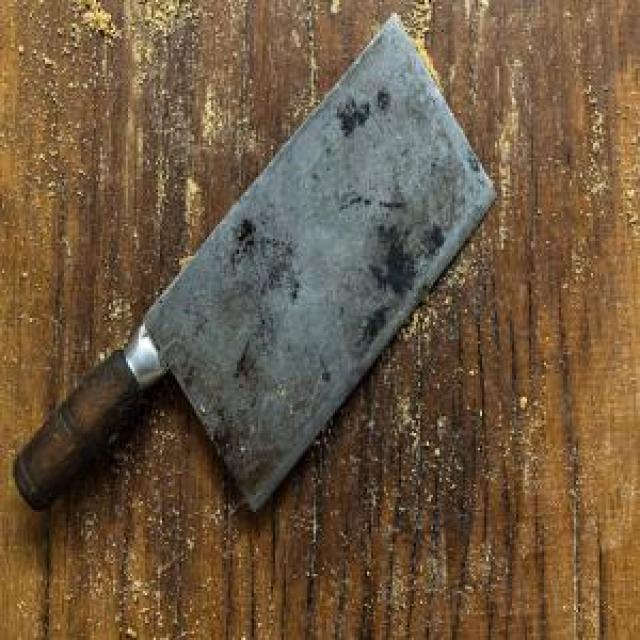knife: (13, 12, 497, 522)
